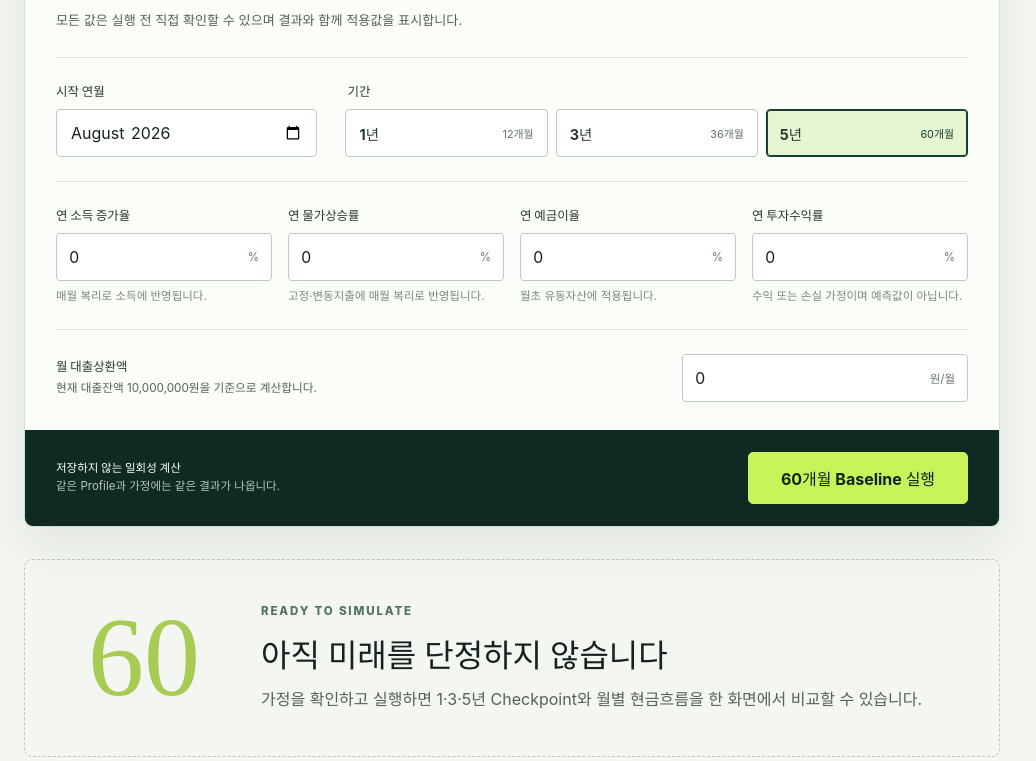
FinancialTwinPage › runs one 60-month request, disables duplicate submission, and renders baseline sections
(page scrolled)
Replace the text in the field labelled "월 대출상환액" with "300000": (800,378) [683, 355, 918, 401]
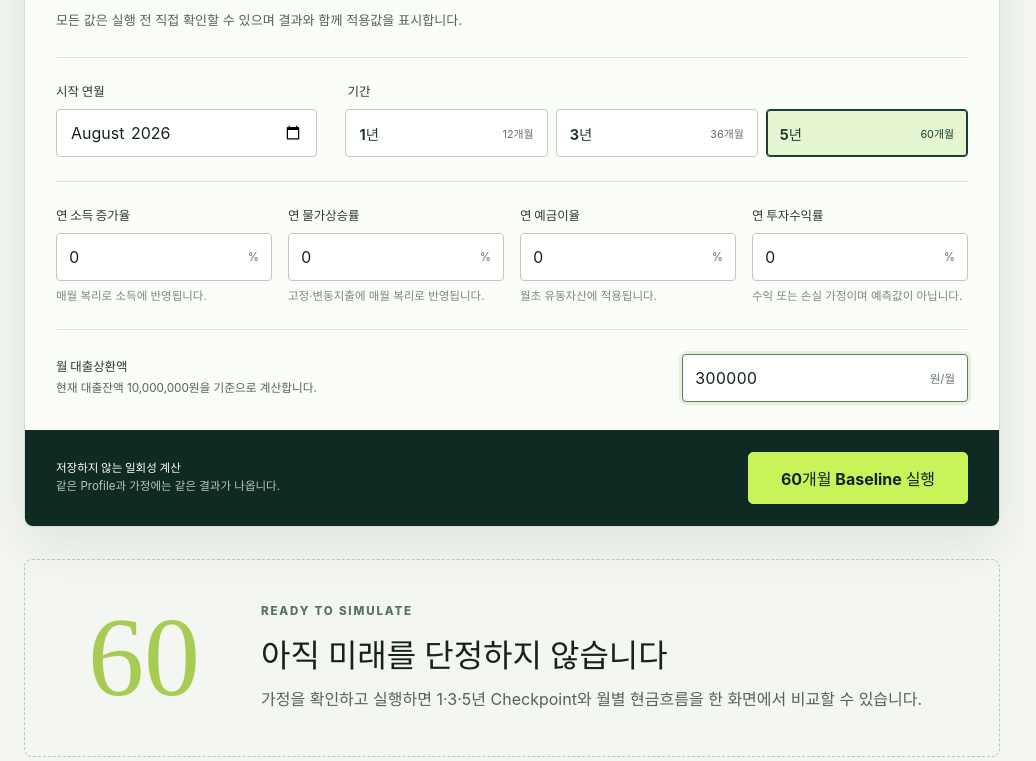
Click the button "60개월 Baseline 실행": (858,478) [748, 452, 968, 504]
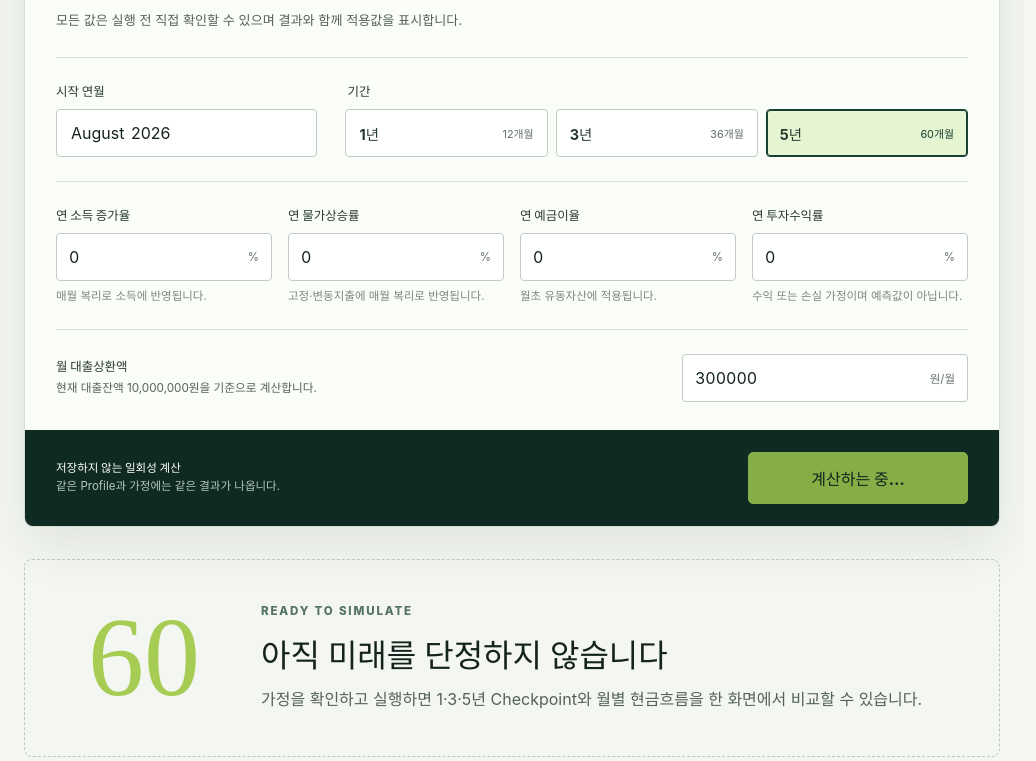
Now the button named "60개월 Baseline 실행" is disabled
Click the button named "60개월 Baseline 실행": (858,478) [748, 452, 968, 504]
(page scrolled)
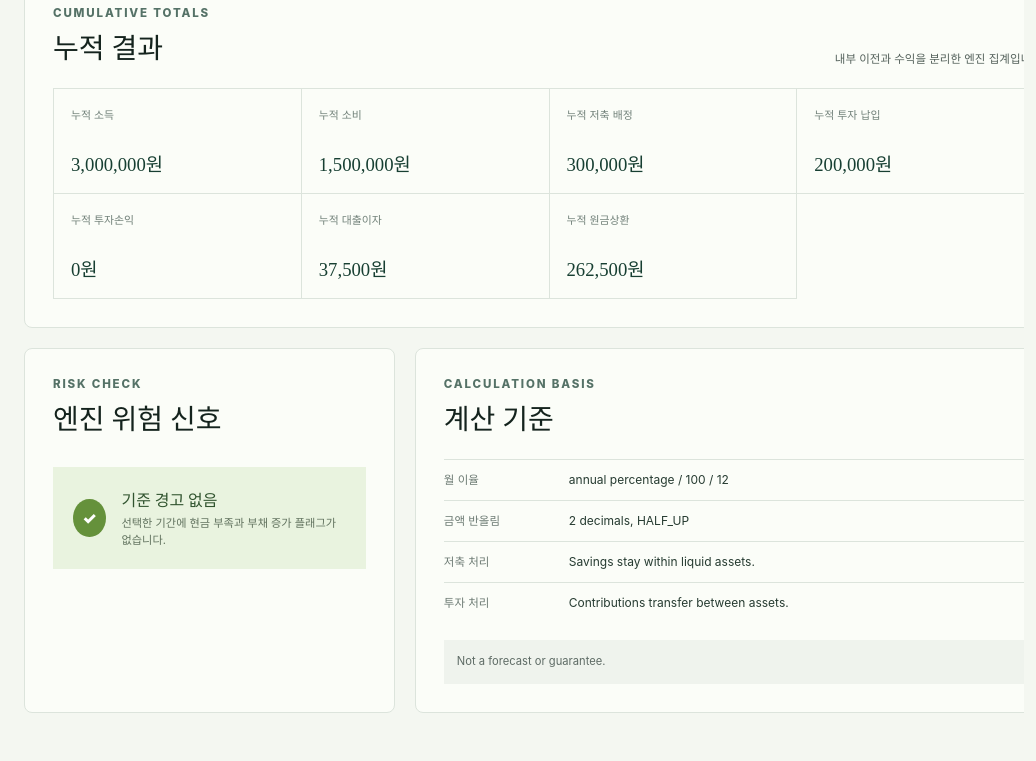
Now the heading "누적 결과" is shown, box [53, 33, 163, 64]
Now the text "기준 경고 없음" is shown, box [122, 490, 217, 510]
